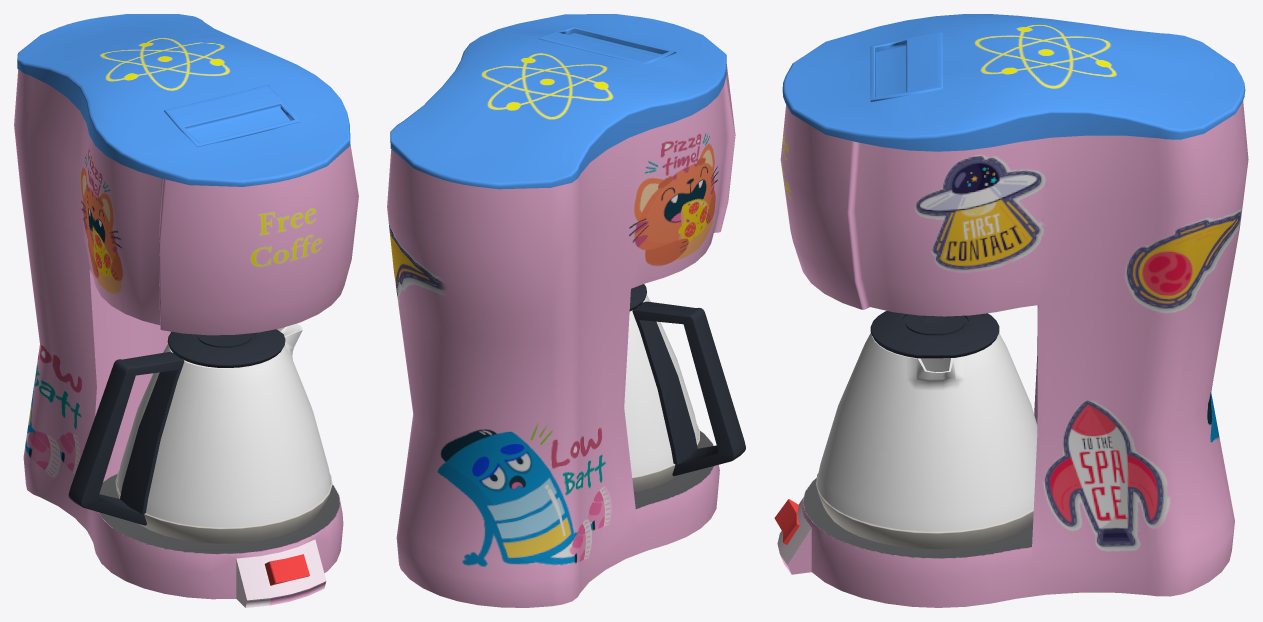
File: cafetera.fbx
3 views of the same model, side by side, from view 1: azimuth 30°, elevation 25°; view 2: azimuth 150°, elevation 25°; view 3: azimuth 270°, elevation 25° (orthographic). The views are drawn at different scales.
Size of the model in its own units: 62.8 by 106 by 90.7.
